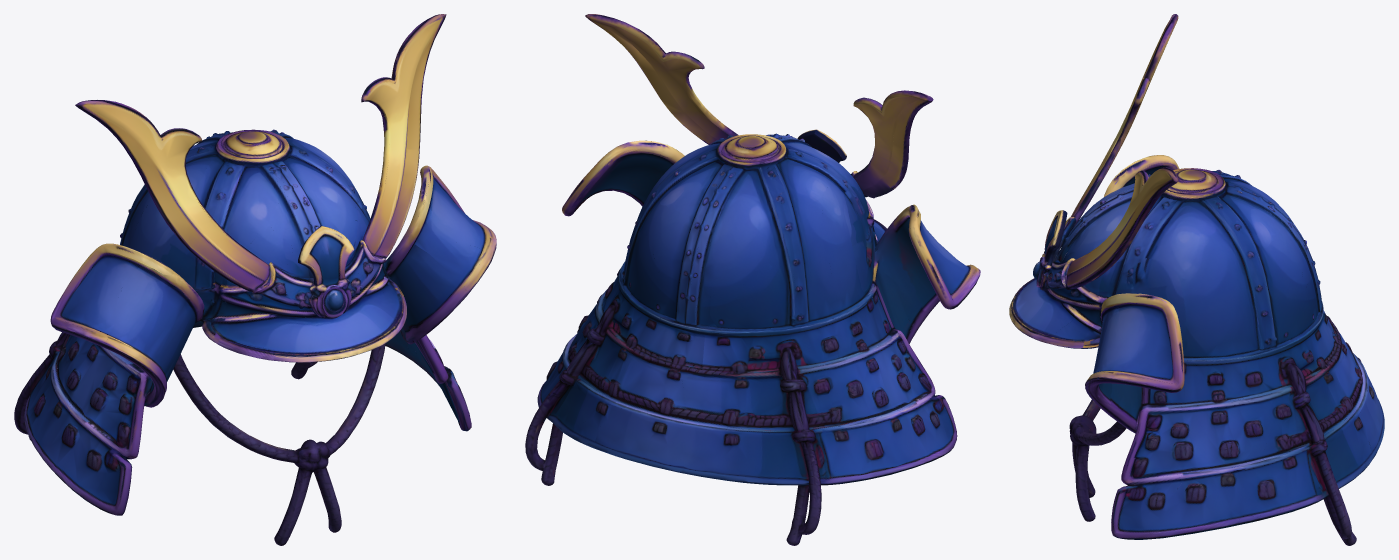
The model's file is blue-samurai-helmet.glb.
3 views of the same model, side by side, from view 1: azimuth 30°, elevation 25°; view 2: azimuth 150°, elevation 25°; view 3: azimuth 270°, elevation 25° (orthographic). The views are drawn at different scales.
Visible parts, largest first — view 1: Gear_; view 2: Gear_; view 3: Gear_.
Boxes of the visible parts, x1=… form: Gear_: x1=14, y1=14, x2=496, y2=545; Gear_: x1=525, y1=14, x2=980, y2=545; Gear_: x1=1009, y1=14, x2=1384, y2=545.
Size of the model in its own units: 1.03 by 1.04 by 0.8576.
1 material, 1 textured.
